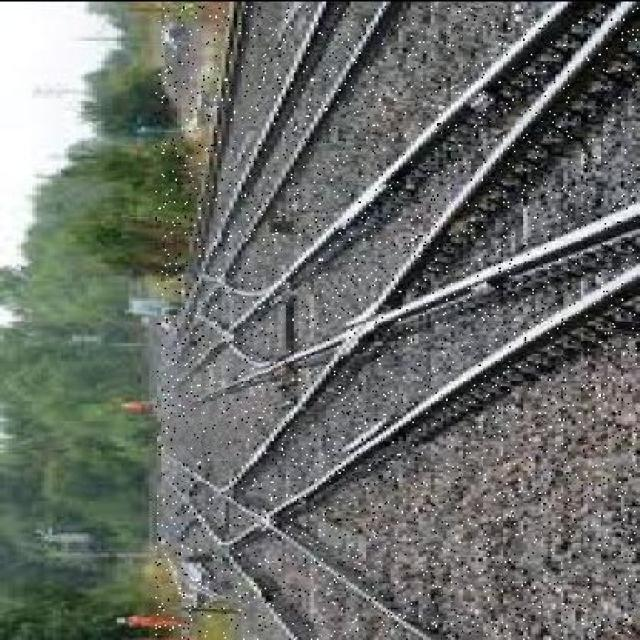rail: (157, 6, 639, 640)
